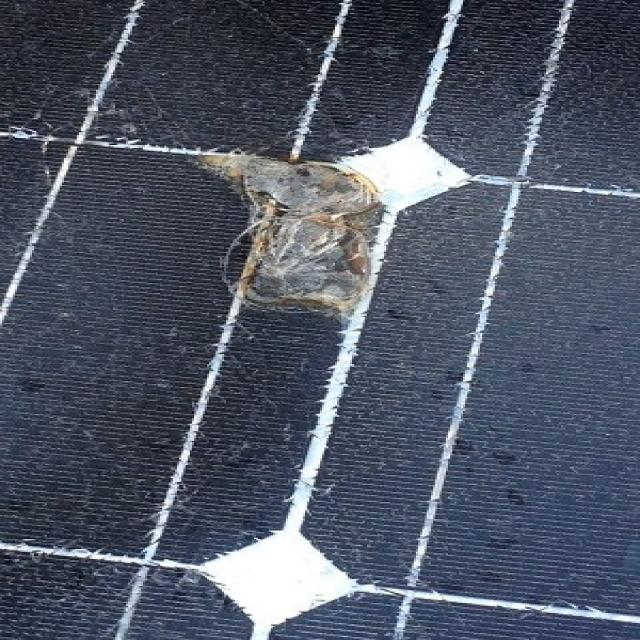Electrical-damage: (0, 138, 398, 579)
